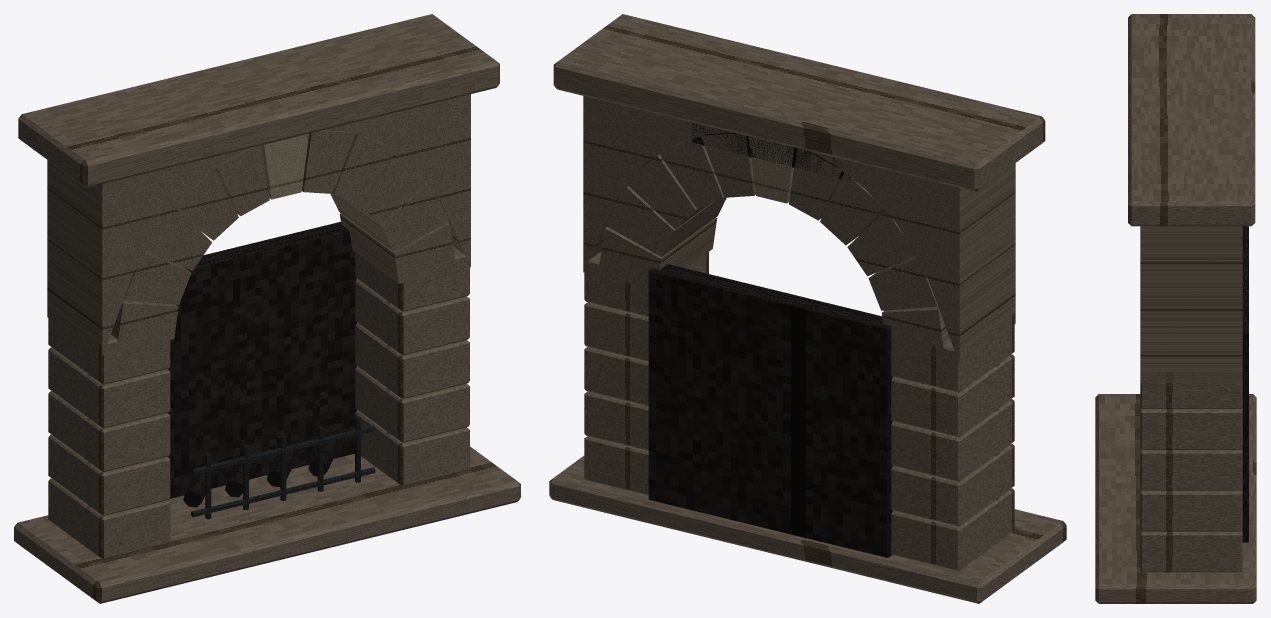
Rendered from level_castle_great_fireplace.glb.
3 renders of one model, left to right at view 1: azimuth 30°, elevation 25°; view 2: azimuth 150°, elevation 25°; view 3: azimuth 270°, elevation 25°, orthographic. The views are drawn at different scales.
Visible parts, largest first — view 1: Blackened brick fireback, Stone mantel shelf, Broad stone hearth, Spandrel ashlar, Jamb ashlar.002, Jamb ashlar.001, Jamb ashlar.003, Jamb ashlar, Jamb ashlar.006, Jamb ashlar.007, Jamb ashlar.008, Jamb ashlar.004 (+20 smaller); view 2: Blackened brick fireback, Stone mantel shelf, Broad stone hearth, Spandrel ashlar, Jamb ashlar.001, Jamb ashlar, Jamb ashlar.002, Jamb ashlar.003, Jamb ashlar.004, Spandrel ashlar.011, Arch voussoir, Arch voussoir.001 (+19 smaller); view 3: Stone mantel shelf, Spandrel ashlar.011, Broad stone hearth, Jamb ashlar.005, Jamb ashlar.006, Jamb ashlar.007, Jamb ashlar.008, Jamb ashlar.009, Blackened brick fireback.
Part boxes in pixels (x1=…): Blackened brick fireback: x1=167, y1=222, x2=356, y2=498; Stone mantel shelf: x1=18, y1=14, x2=499, y2=187; Broad stone hearth: x1=14, y1=446, x2=520, y2=603; Spandrel ashlar: x1=47, y1=160, x2=132, y2=356; Jamb ashlar.002: x1=48, y1=391, x2=170, y2=472; Jamb ashlar.001: x1=48, y1=434, x2=170, y2=515; Jamb ashlar.003: x1=48, y1=347, x2=170, y2=428; Jamb ashlar: x1=48, y1=478, x2=170, y2=559; Jamb ashlar.006: x1=355, y1=366, x2=469, y2=442; Jamb ashlar.007: x1=355, y1=322, x2=469, y2=398; Jamb ashlar.008: x1=355, y1=279, x2=469, y2=355; Jamb ashlar.004: x1=48, y1=306, x2=170, y2=384; Blackened brick fireback: x1=648, y1=264, x2=893, y2=557; Stone mantel shelf: x1=553, y1=14, x2=1045, y2=191; Broad stone hearth: x1=549, y1=456, x2=1066, y2=603; Spandrel ashlar: x1=928, y1=163, x2=1015, y2=364; Jamb ashlar.001: x1=891, y1=443, x2=1014, y2=526; Jamb ashlar: x1=891, y1=488, x2=1014, y2=570; Jamb ashlar.002: x1=891, y1=399, x2=1014, y2=481; Jamb ashlar.003: x1=891, y1=354, x2=1014, y2=437; Jamb ashlar.004: x1=891, y1=312, x2=1014, y2=392; Spandrel ashlar.011: x1=583, y1=96, x2=617, y2=272; Arch voussoir: x1=598, y1=217, x2=717, y2=287; Arch voussoir.001: x1=605, y1=186, x2=726, y2=256; Stone mantel shelf: x1=1128, y1=14, x2=1255, y2=226; Spandrel ashlar.011: x1=1140, y1=226, x2=1242, y2=382; Broad stone hearth: x1=1095, y1=394, x2=1256, y2=603; Jamb ashlar.005: x1=1140, y1=530, x2=1242, y2=572; Jamb ashlar.006: x1=1140, y1=489, x2=1242, y2=531; Jamb ashlar.007: x1=1140, y1=448, x2=1242, y2=490; Jamb ashlar.008: x1=1140, y1=408, x2=1242, y2=449; Jamb ashlar.009: x1=1140, y1=372, x2=1242, y2=408; Blackened brick fireback: x1=1242, y1=226, x2=1248, y2=542.
Size of the model in its own units: 2.95 by 2.85 by 1.04.
Materials: 5 (5 with a texture image).
